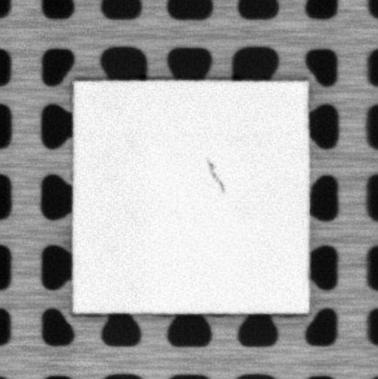DIE_INK: (206, 158, 225, 192)
